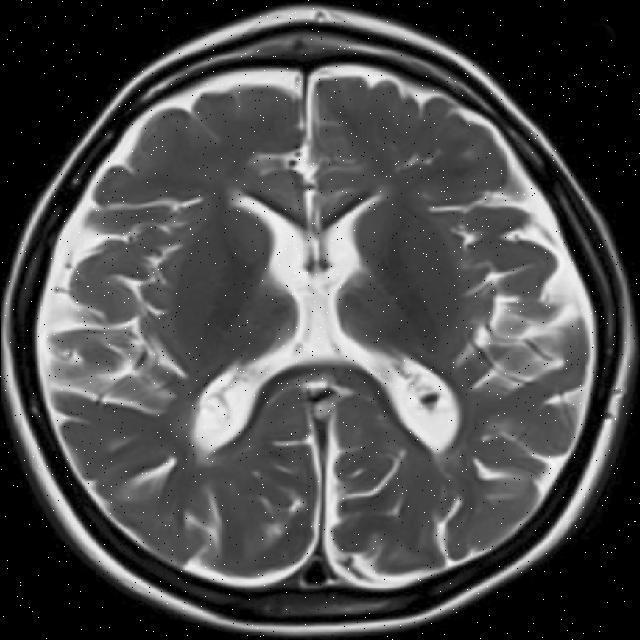No_Tumor: (0, 6, 633, 633)
